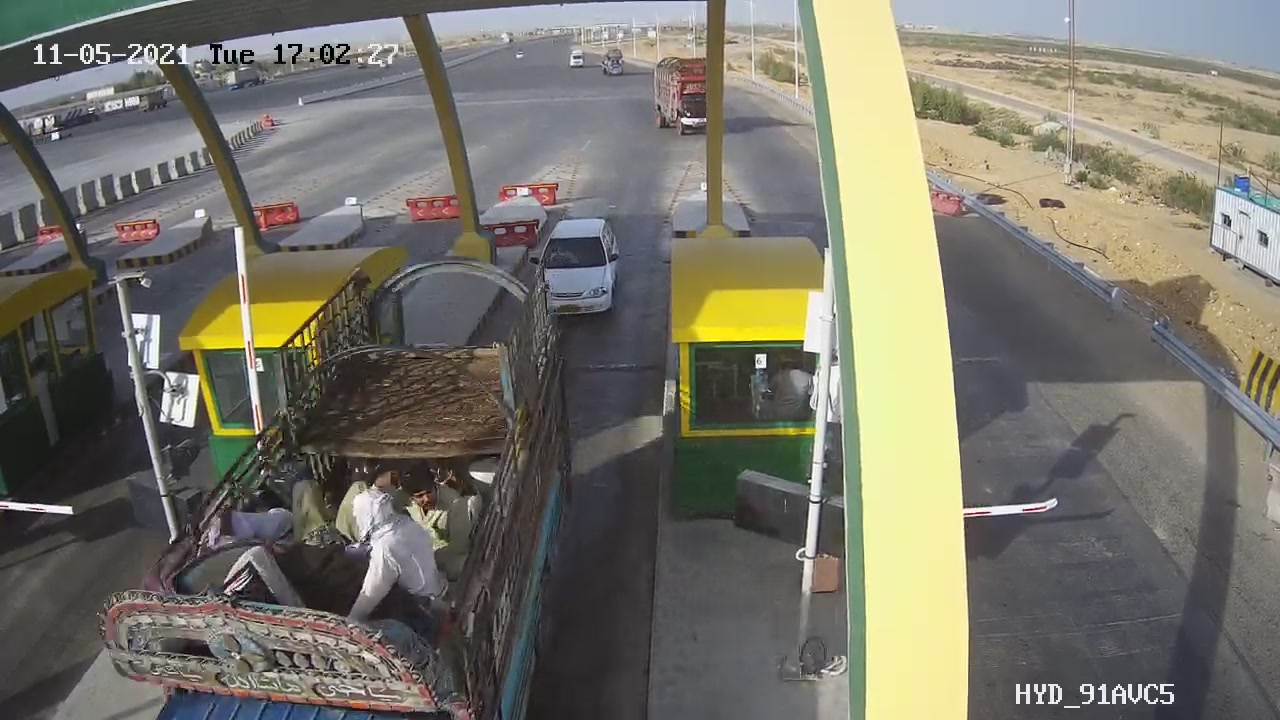F1: (509, 204, 637, 336)
